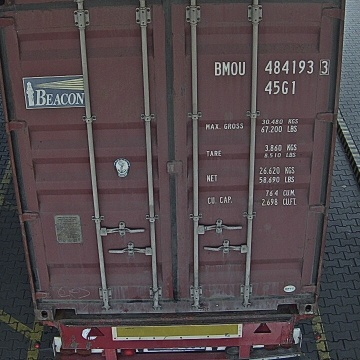serial_id: (215, 59, 329, 75)
